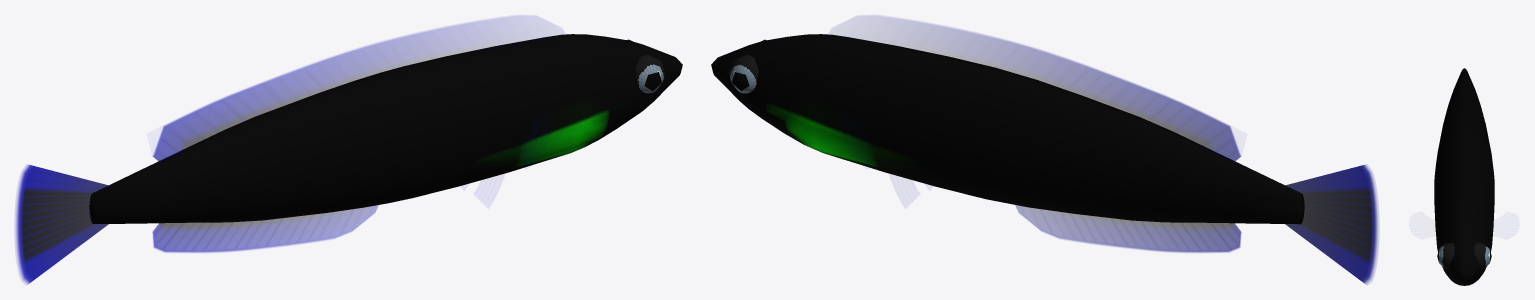
File: wrasse_lod1.glb
3 renders of one model, left to right at view 1: azimuth 30°, elevation 25°; view 2: azimuth 150°, elevation 25°; view 3: azimuth 270°, elevation 25°, orthographic. The views are drawn at different scales.
Visible parts, largest first — view 1: Body, FinDorsal, FinCaudal, FinAnal, EyeR; view 2: Body, FinDorsal, FinCaudal, FinAnal, EyeL; view 3: Body, EyeR, EyeL.
Boxes of the visible parts, x1,y1,x2,y2 form: Body: [90, 34, 682, 224]; FinDorsal: [152, 16, 552, 161]; FinCaudal: [15, 165, 109, 284]; FinAnal: [152, 205, 378, 252]; EyeR: [636, 55, 665, 93]; Body: [711, 34, 1303, 224]; FinDorsal: [841, 16, 1241, 161]; FinCaudal: [1284, 165, 1378, 284]; FinAnal: [1015, 205, 1241, 252]; EyeL: [728, 55, 758, 93]; Body: [1434, 68, 1494, 285]; EyeR: [1437, 243, 1454, 269]; EyeL: [1474, 242, 1491, 269].
Bounding box in the file's own units: 1 × 0.2683 × 0.2107.
Materials: 4 (3 with a texture image).
